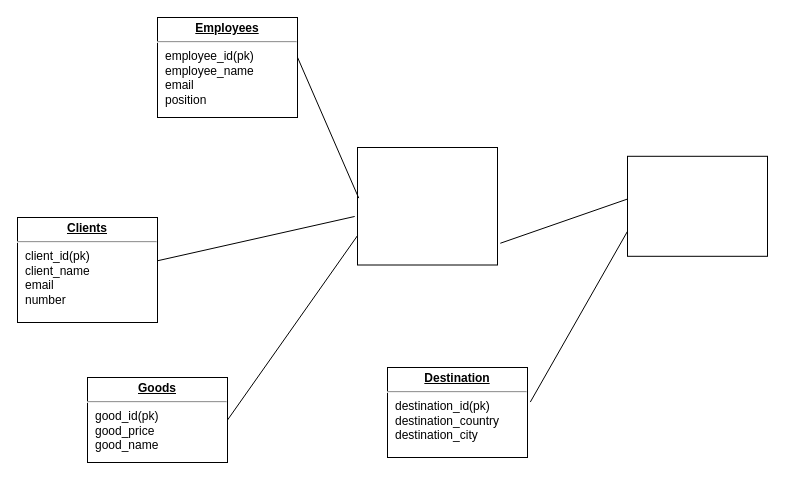
Image size: 785x480. Some labels were removed from this diagram. Here are the shapes that lost their labels. From the top down, the box of each, then its label:
(356, 146, 498, 265): Orders order_id(pk) employee_id(fk) client_id(fk) good_id(fk) delivery_type(fk)
(626, 155, 768, 256): Delivery delivery_type(pk) delcompany destination_id(fk) delivery_date
